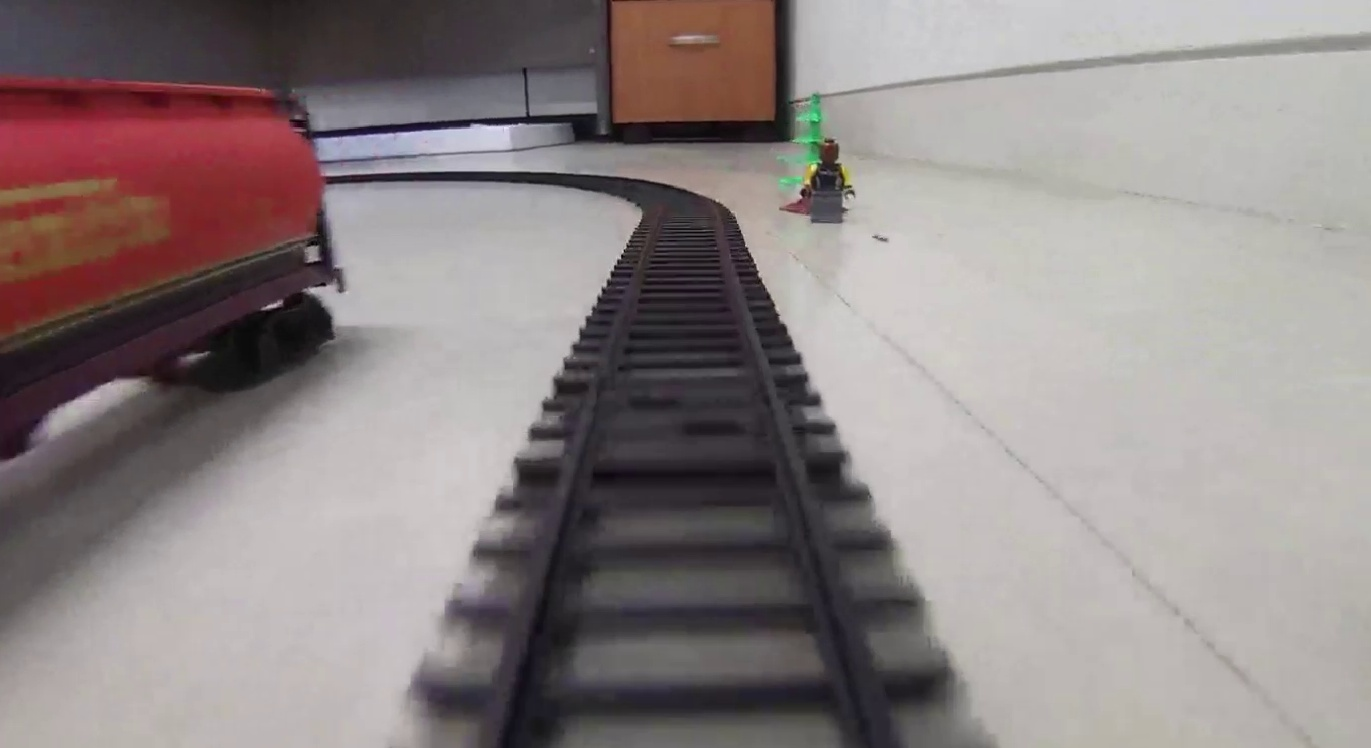people: (806, 138, 852, 225)
